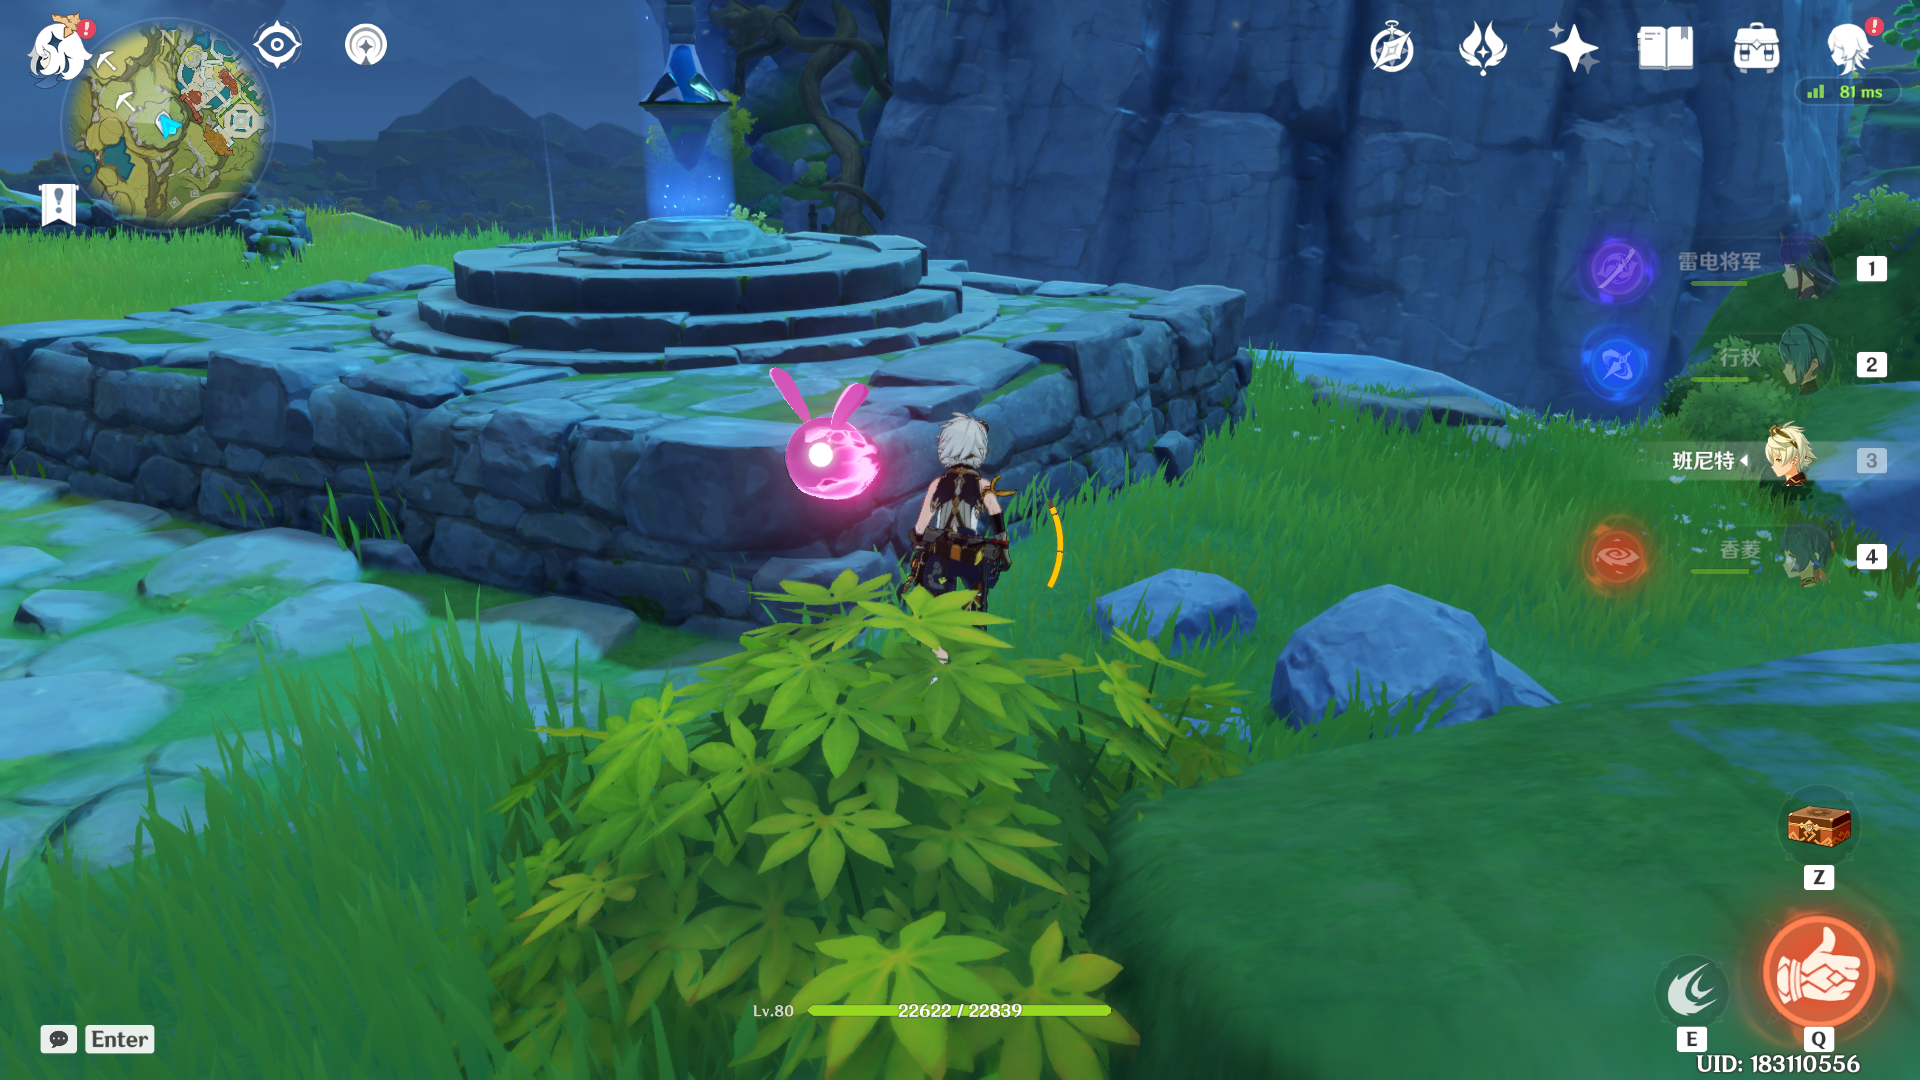character: (833, 355, 1091, 709)
